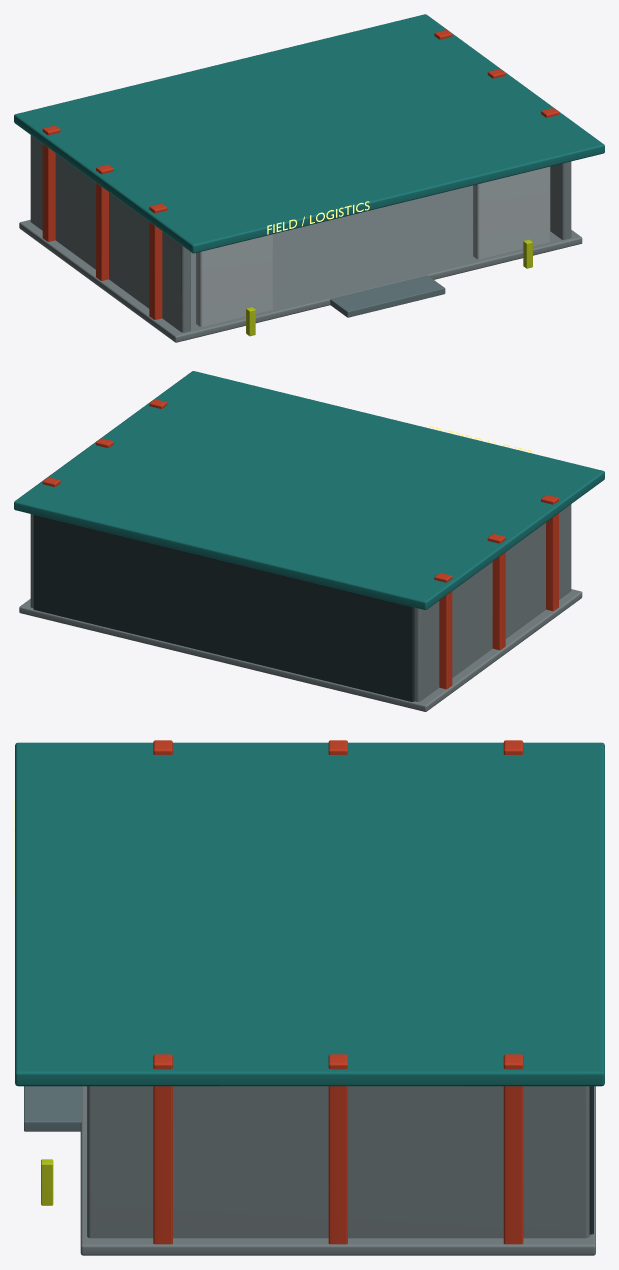
The model's file is frontier_shelter.glb.
The picture shows the model from 3 angles, top to bottom: view 1: azimuth 30°, elevation 25°; view 2: azimuth 150°, elevation 25°; view 3: azimuth 270°, elevation 25°; orthographic projection. The views are drawn at different scales.
Visible parts, largest first — view 1: frontier_shelter; view 2: frontier_shelter; view 3: frontier_shelter.
Boxes of the visible parts, x1=… form: frontier_shelter: x1=14, y1=14, x2=604, y2=342; frontier_shelter: x1=14, y1=371, x2=604, y2=711; frontier_shelter: x1=14, y1=740, x2=604, y2=1255.
Size of the model in its own units: 15.2 by 4.1 by 11.47.
